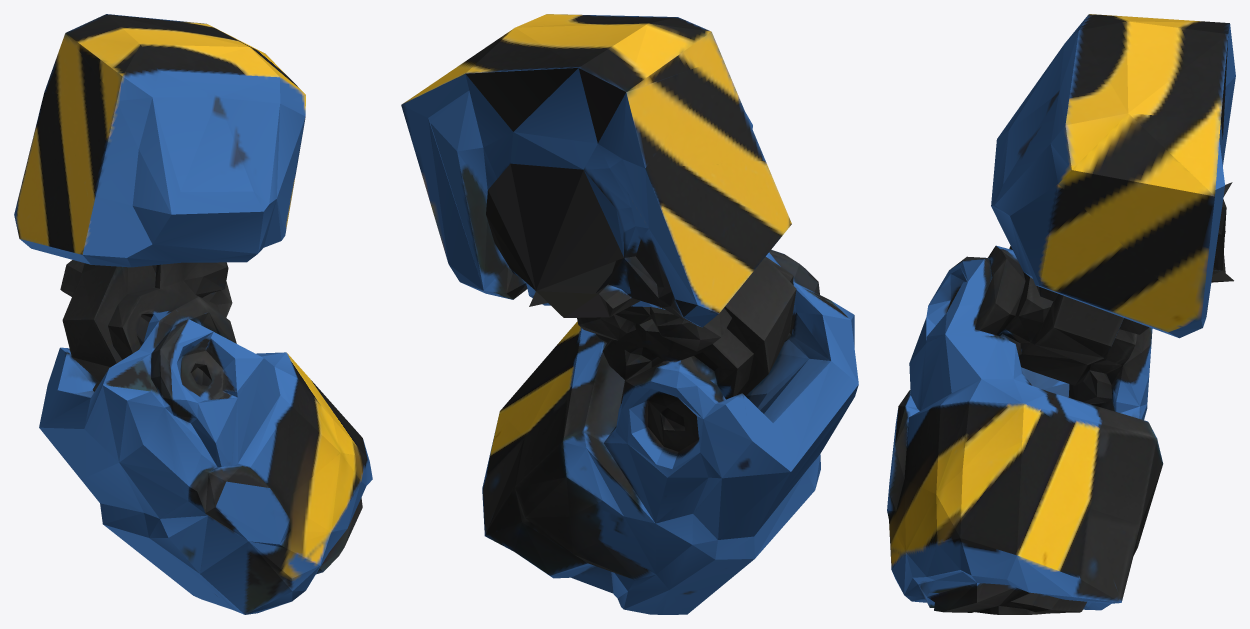
File: SM_HeavyDebris_UpperArm_R.fbx
3 views of the same model, side by side, from view 1: azimuth 30°, elevation 25°; view 2: azimuth 150°, elevation 25°; view 3: azimuth 270°, elevation 25° (orthographic). The views are drawn at different scales.
Visible parts, largest first — view 1: SM_HeavyDebris_UpperArm_R; view 2: SM_HeavyDebris_UpperArm_R; view 3: SM_HeavyDebris_UpperArm_R.
Part boxes in pixels (x1,y1,x2,y2): SM_HeavyDebris_UpperArm_R: (14,14,372,614); SM_HeavyDebris_UpperArm_R: (401,14,858,614); SM_HeavyDebris_UpperArm_R: (887,14,1235,614).
Size of the model in its own units: 86.53 by 149 by 81.53.
Materials: 1 (1 with a texture image).
